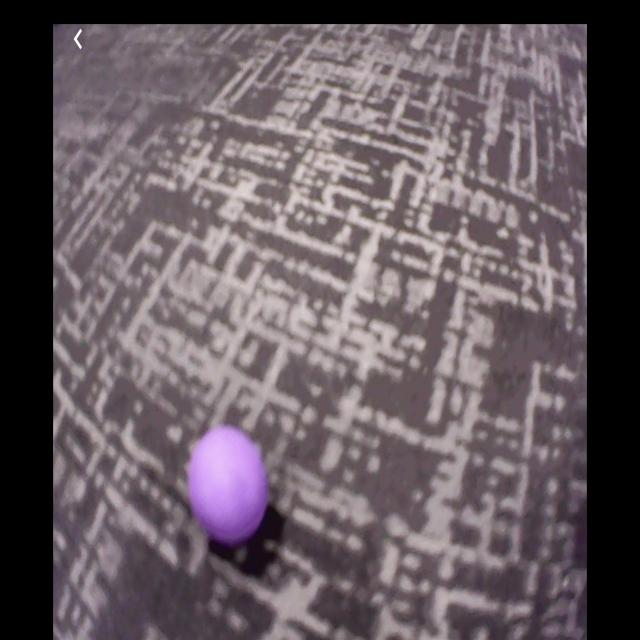ball: (189, 425, 269, 545)
